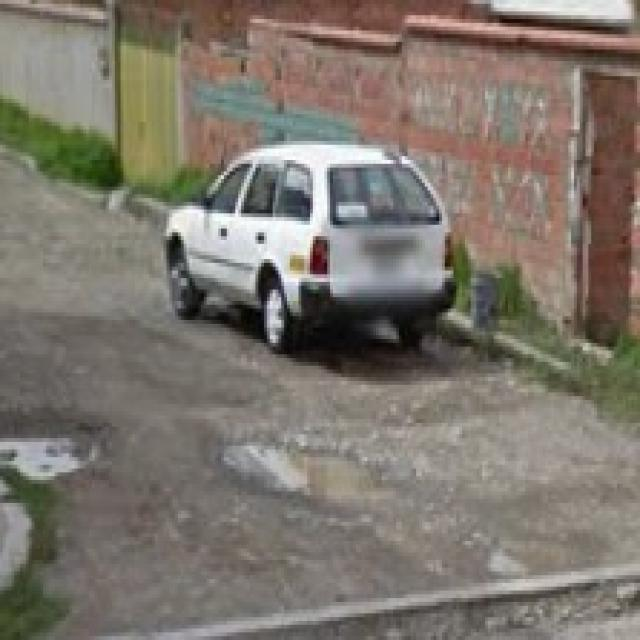car: (163, 136, 455, 347)
